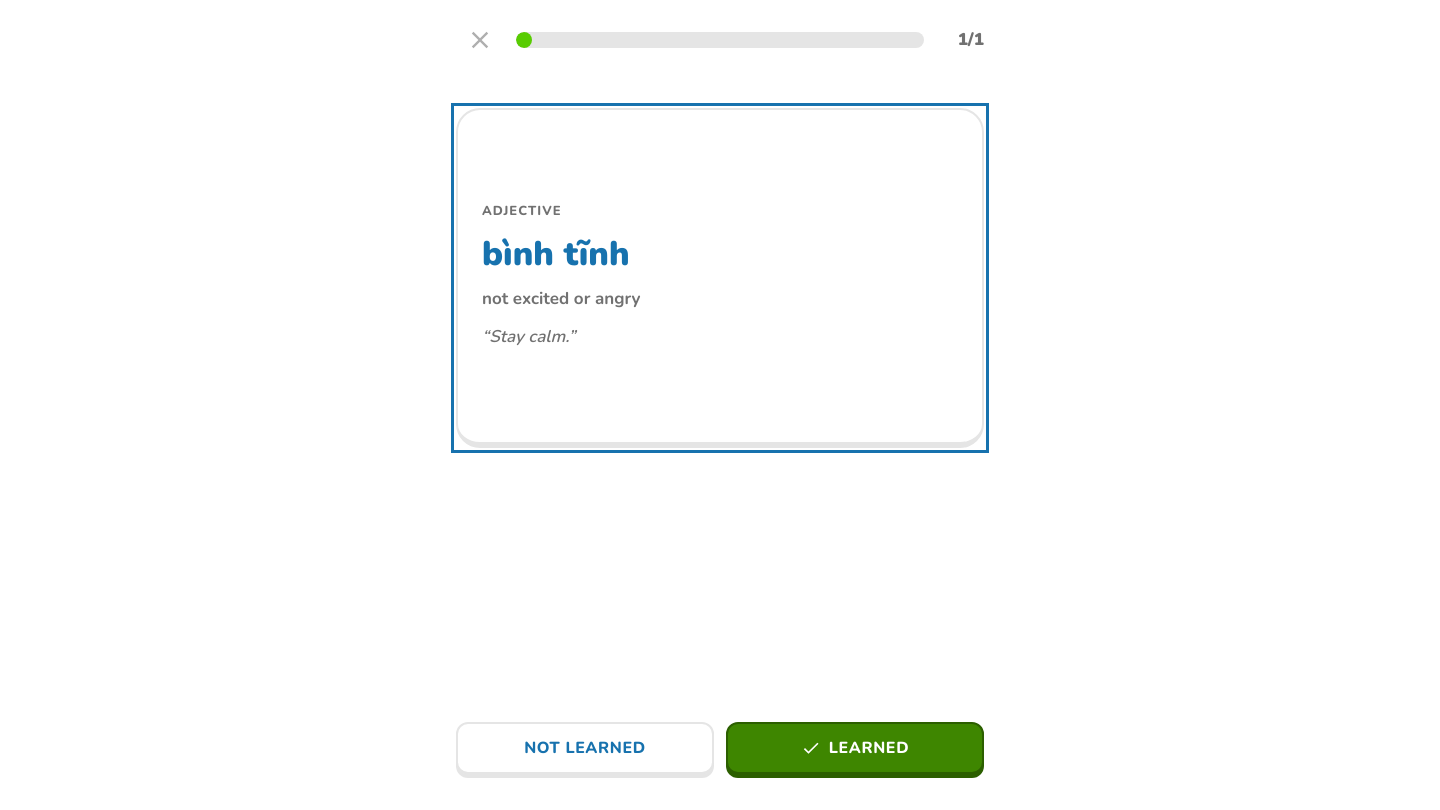
Lexi › counts a word once, resets it to Not learned on re-lookup, and runs a review
Earlier steps of the test are not shown.
Click the button "Learned": coordinates (855, 748) x1=726 y1=722 x2=984 y2=774
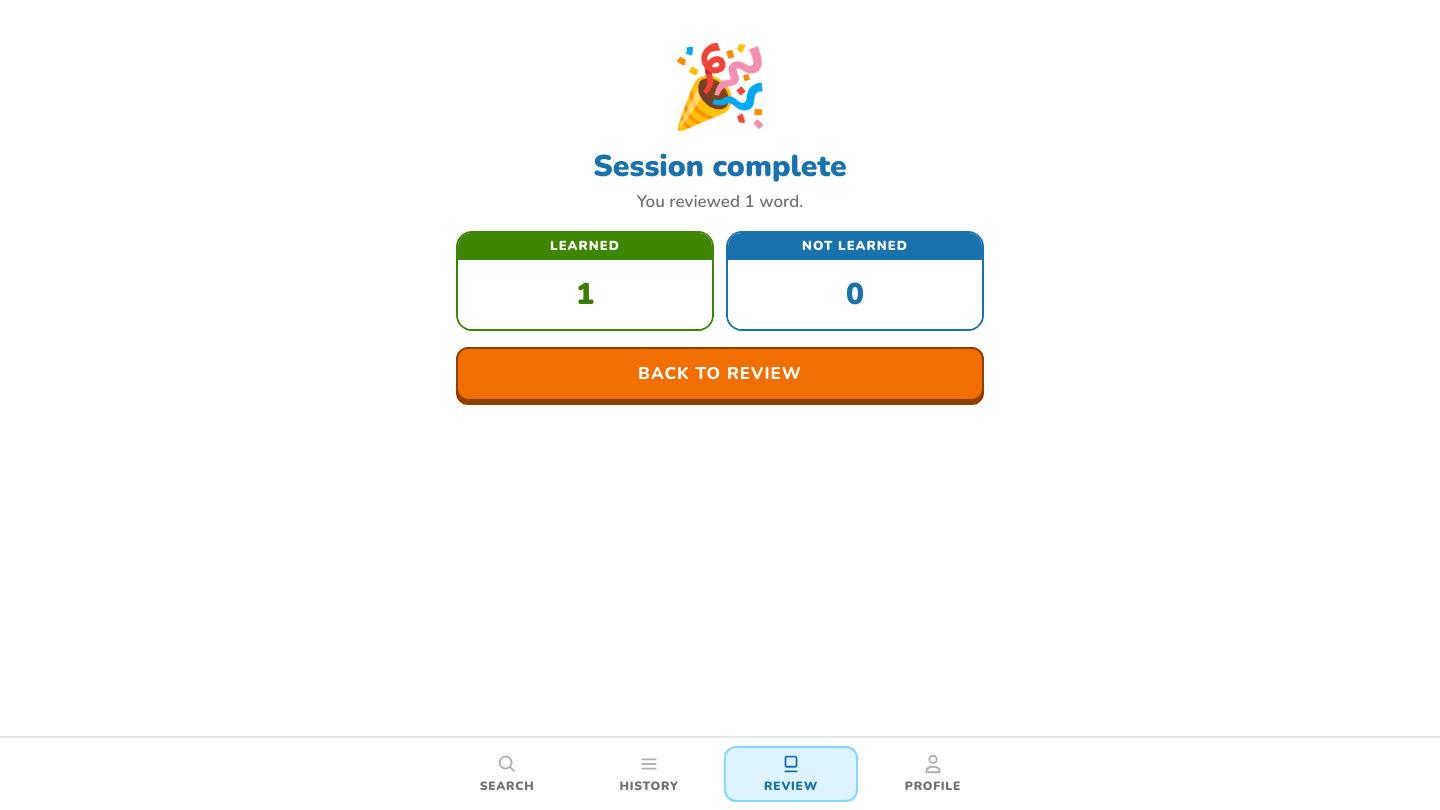
Expected: the heading "Session complete" is shown, x1=593 y1=144 x2=847 y2=189
Click the button "Back to review": coordinates (720, 374) x1=456 y1=347 x2=984 y2=400
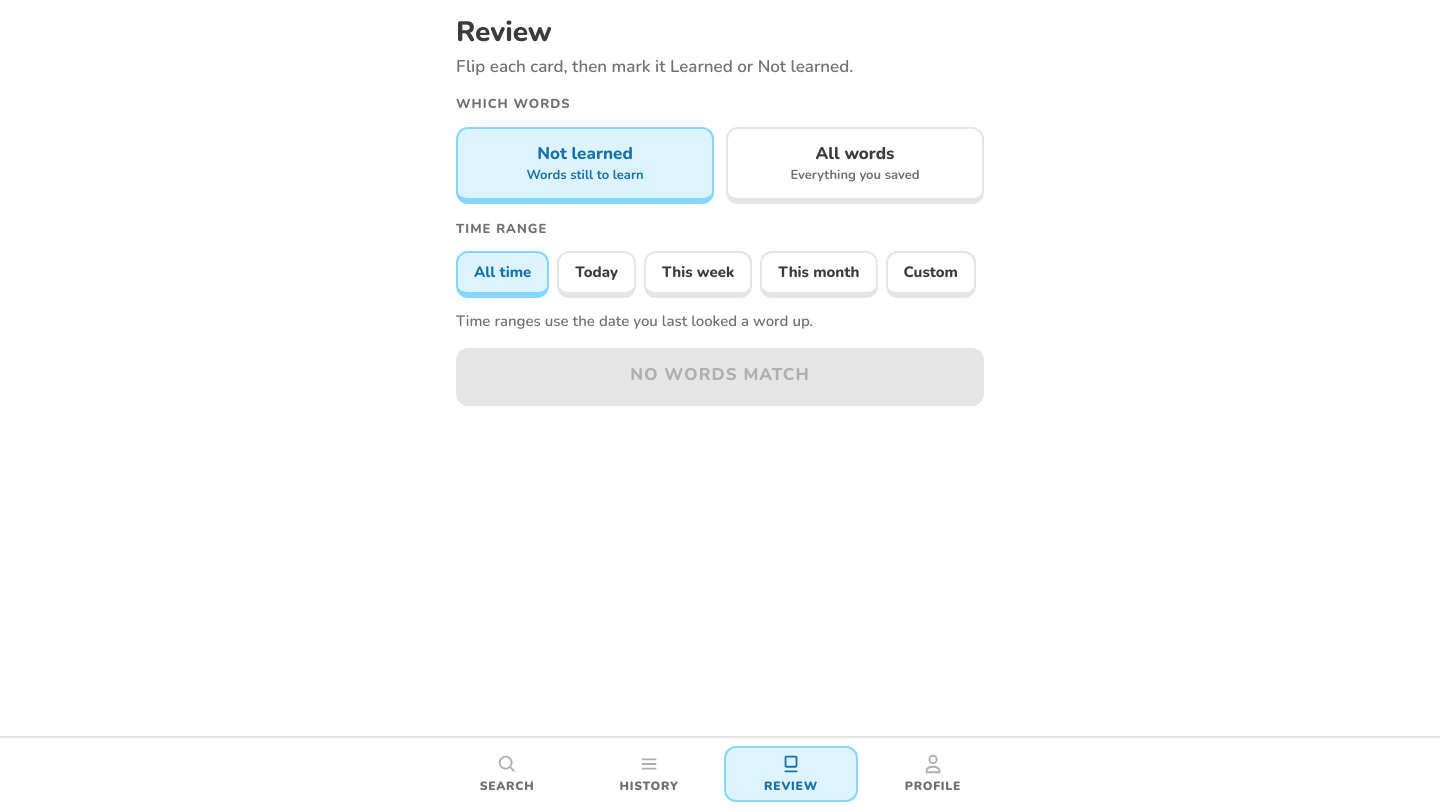
Expected: the button "No words match" is shown, x1=456 y1=348 x2=984 y2=402
Click the button "All words Everything you saved": coordinates (855, 165) x1=726 y1=127 x2=984 y2=204
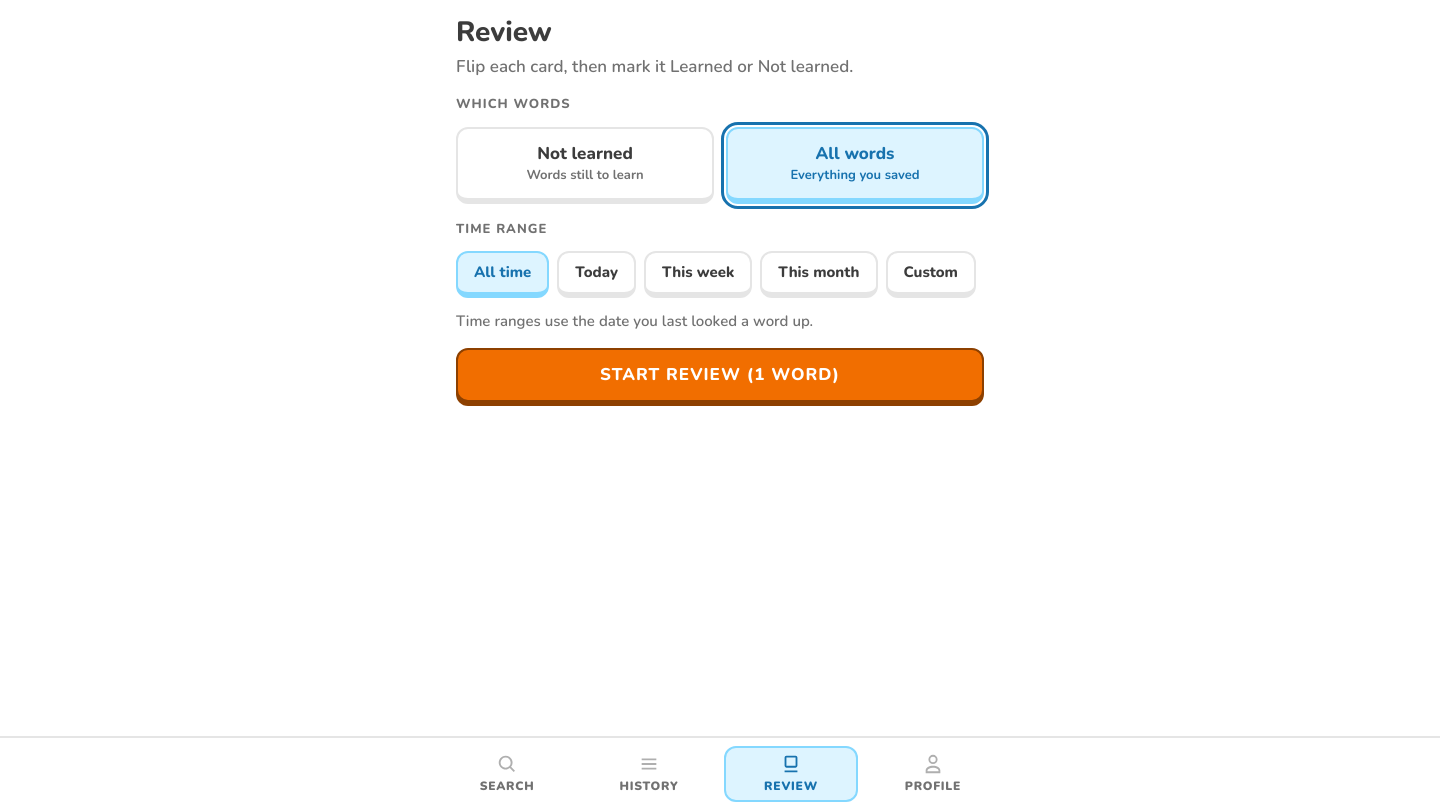
Expected: the button "Start review (1 word)" is shown, x1=456 y1=348 x2=984 y2=402
Click the button "Search": coordinates (507, 774) x1=440 y1=746 x2=574 y2=802
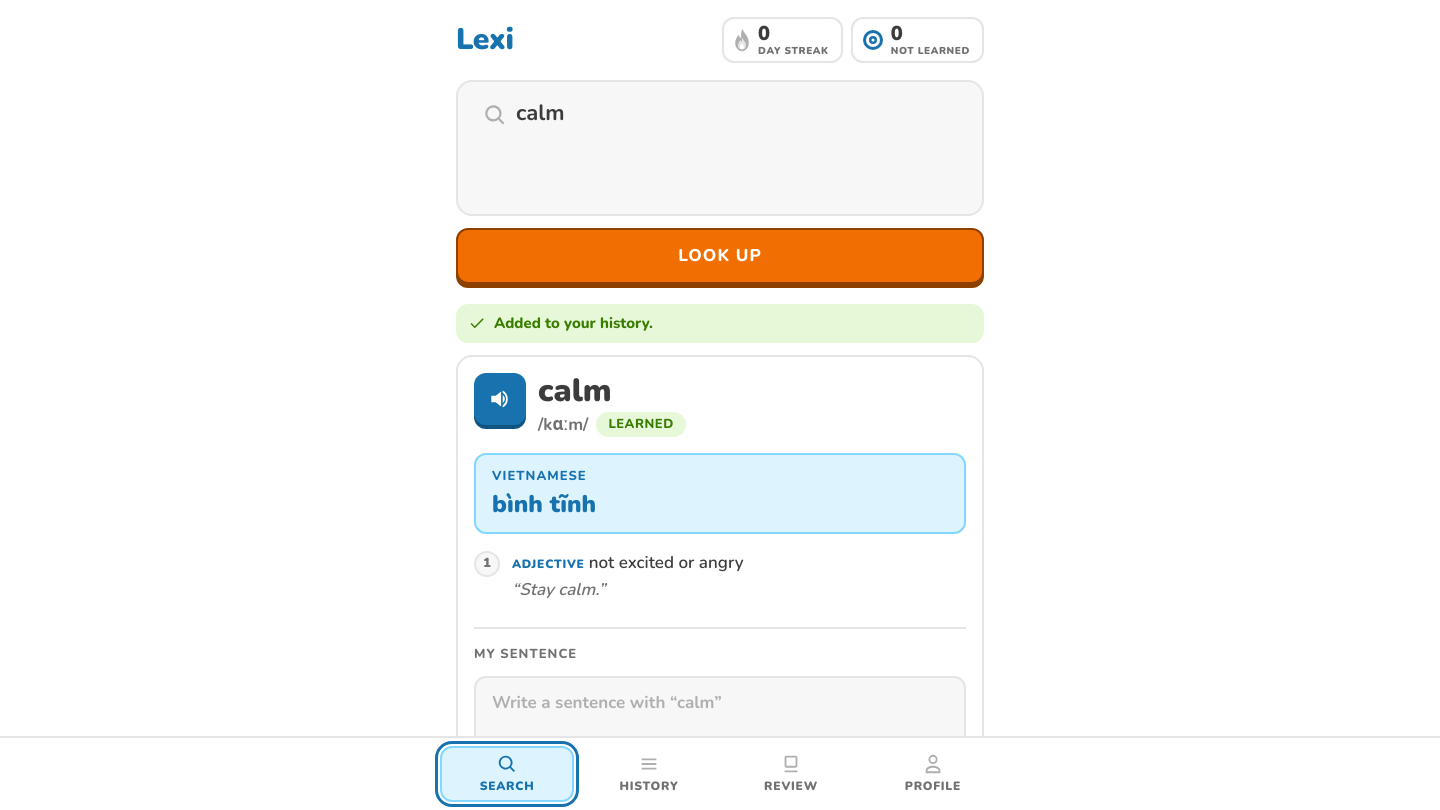
Replace the text in the text box named "Look up an English word" with "Calm": coordinates (737, 148) x1=516 y1=98 x2=958 y2=198
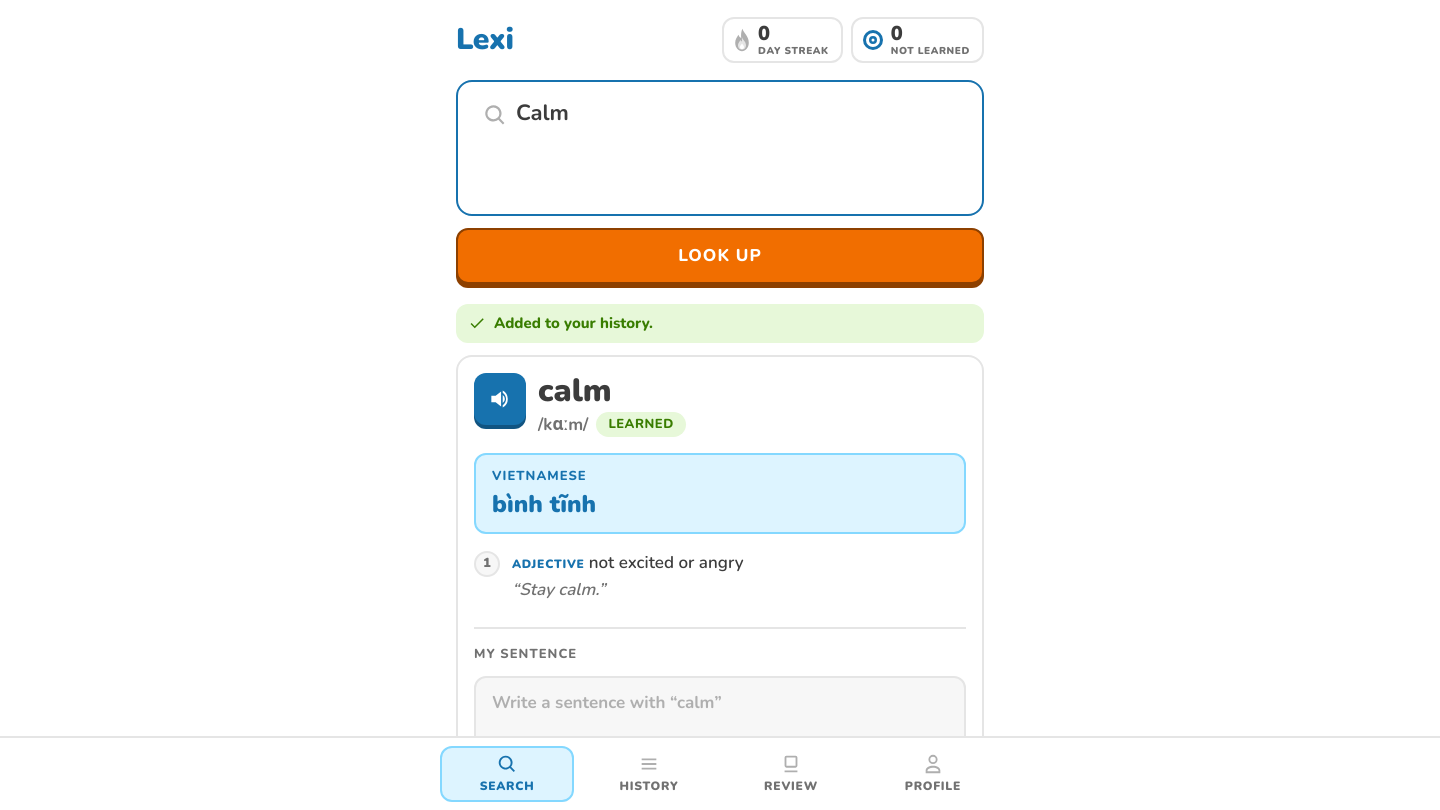
Click the button "Look up": coordinates (720, 256) x1=456 y1=228 x2=984 y2=284
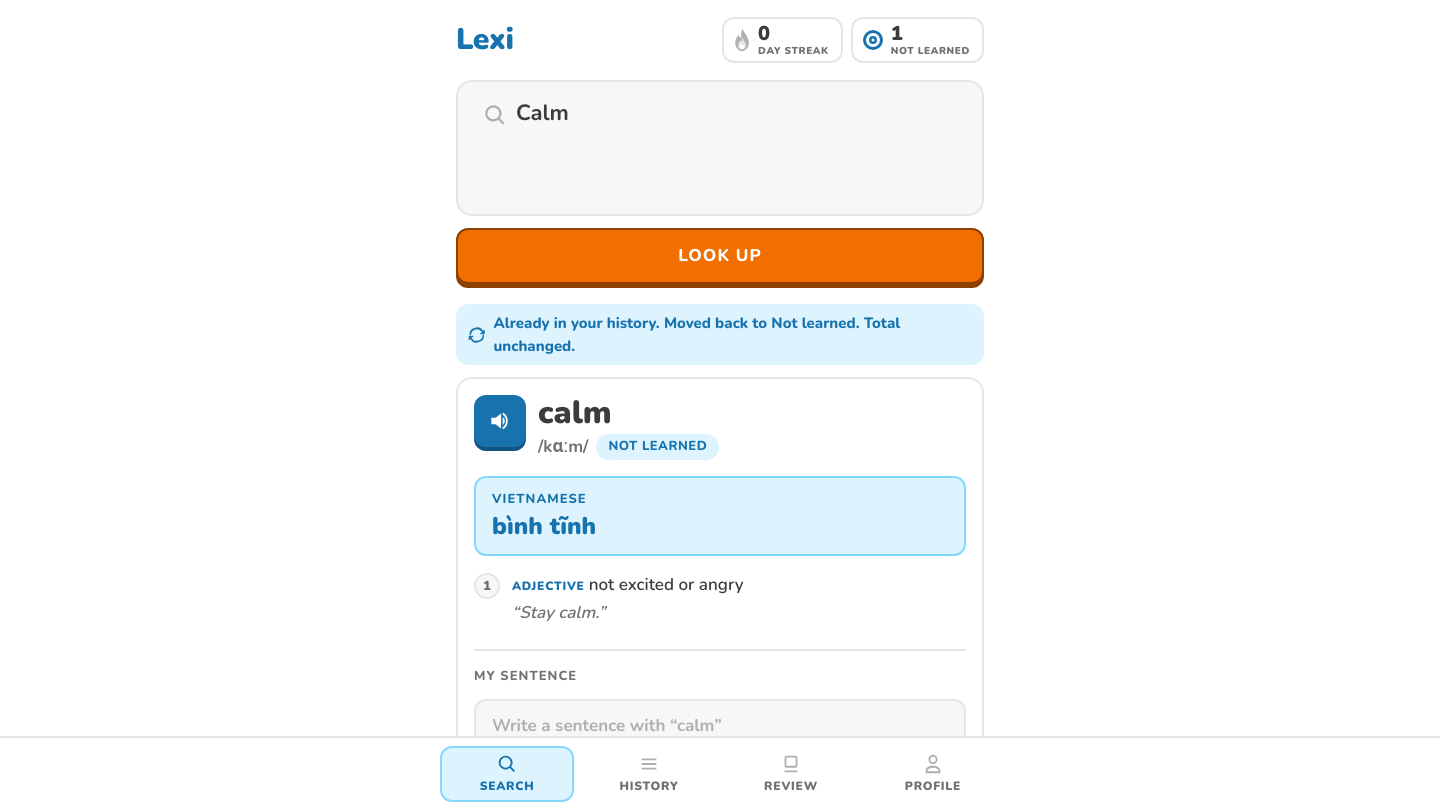
Expected: the text "Moved back to Not learned" is shown, x1=494 y1=313 x2=900 y2=356
